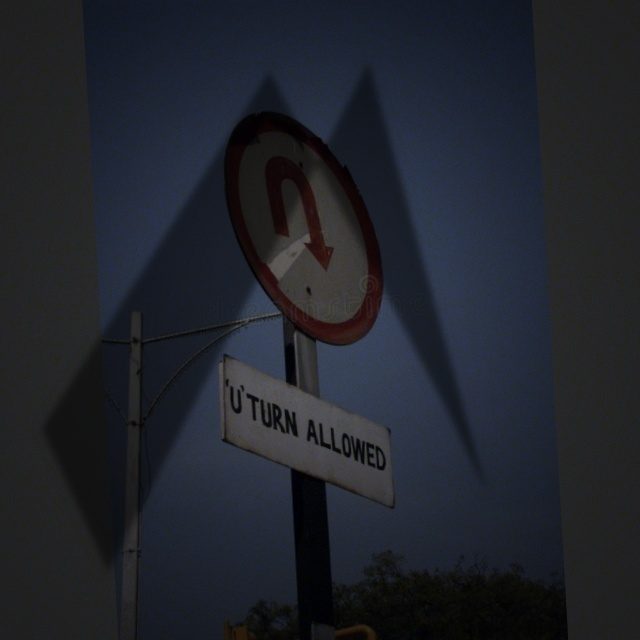U_Turn_Ahead: (209, 96, 398, 342)
